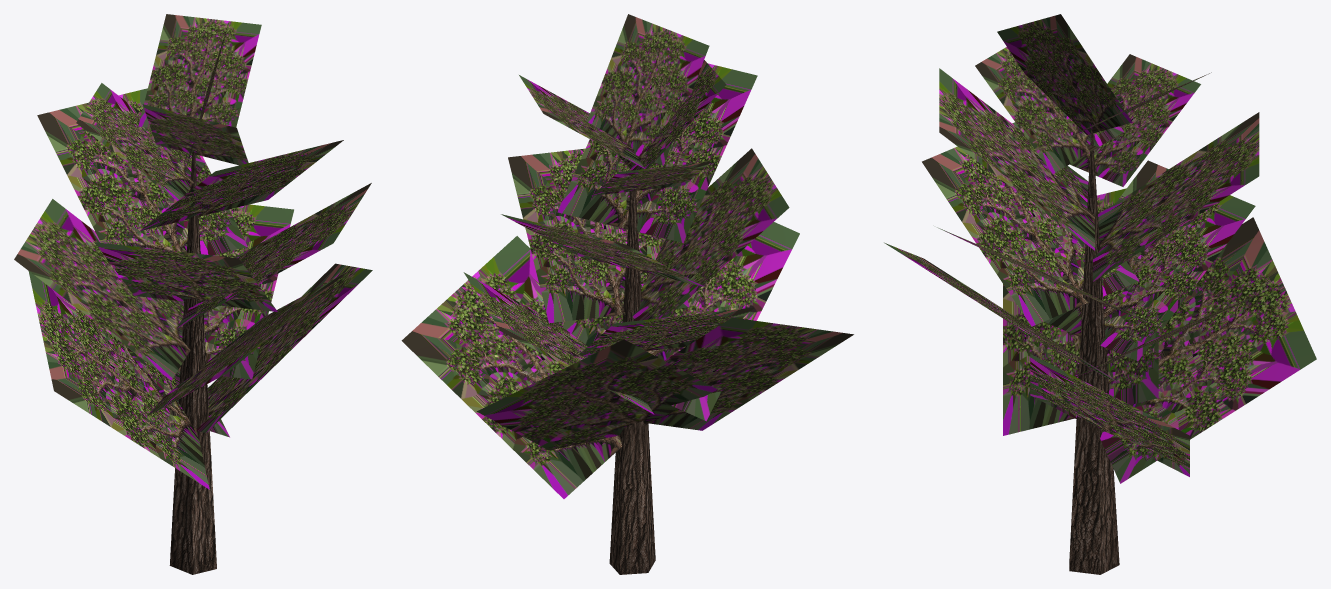
The model's file is mm9_deco_tree04.glb.
The picture shows the model from 3 angles, left to right: view 1: azimuth 30°, elevation 25°; view 2: azimuth 150°, elevation 25°; view 3: azimuth 270°, elevation 25°; orthographic projection. The views are drawn at different scales.
Parts seen in each view (by area): view 1: Tree04; view 2: Tree04; view 3: Tree04.
Part boxes in pixels (<box>): Tree04: <box>14,14,372,574</box>; Tree04: <box>401,14,853,574</box>; Tree04: <box>884,14,1316,574</box>.
Bounding box in the file's own units: 14.86 × 20.9 × 14.65.
2 materials, 2 textured.
